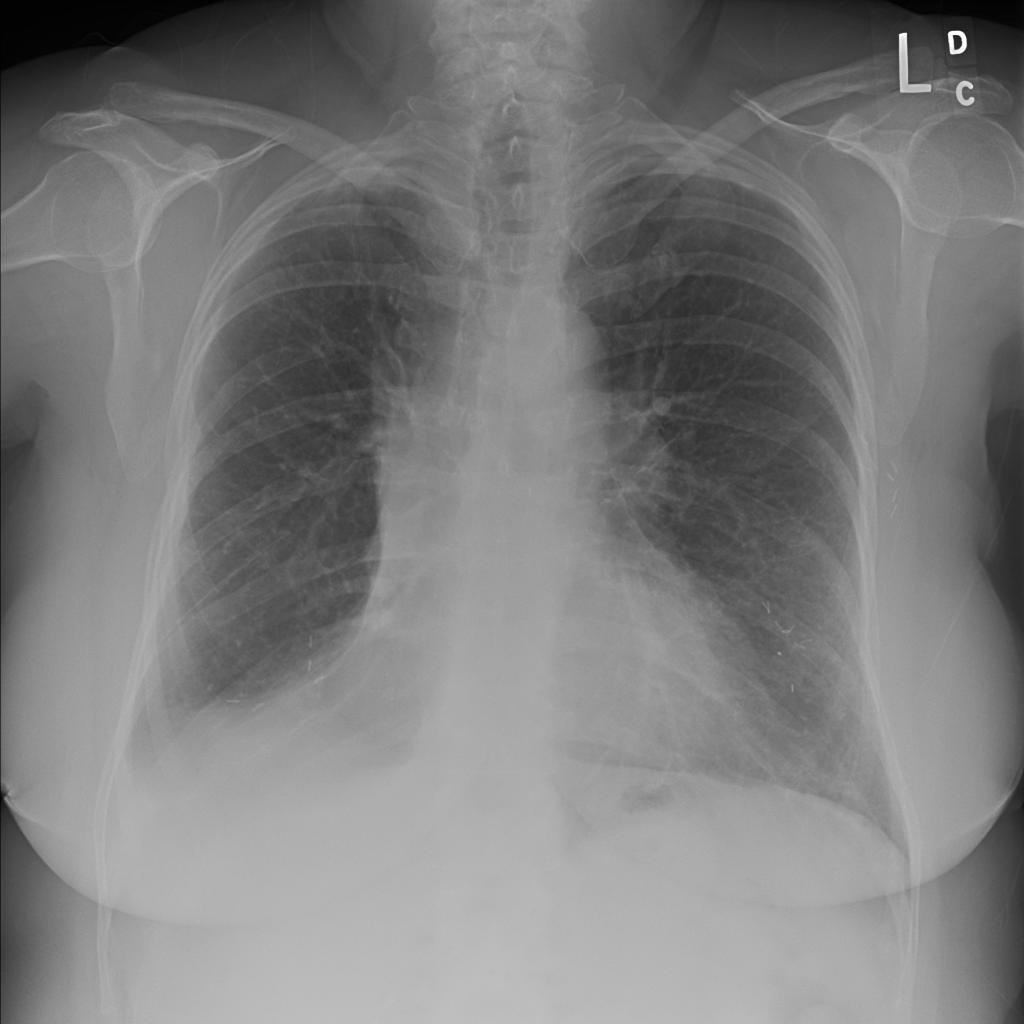Nodule: (425, 211, 466, 242), (166, 323, 200, 353), (160, 299, 194, 326), (193, 309, 225, 333)
